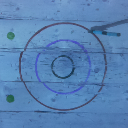Axe Tip: (91, 29, 105, 32)
